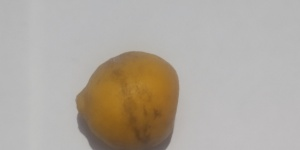BAD: (77, 50, 183, 150)
